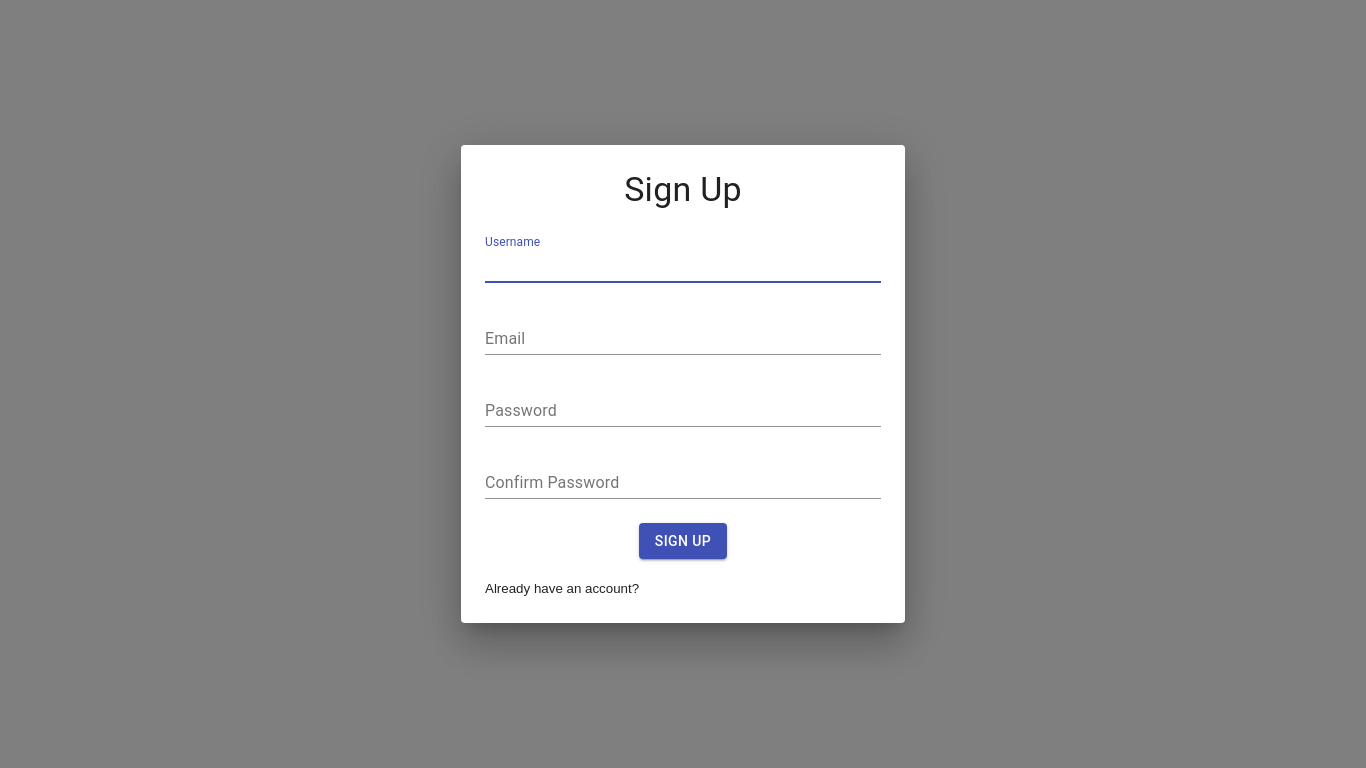
Test case: <SignUpDialog /> › Validation › should give an error on submit if username is empty
The image size is (1366, 768).
Type "123@gmail.com" into the field labelled "Email" at (683, 339), box x1=485 y1=323 x2=881 y2=355
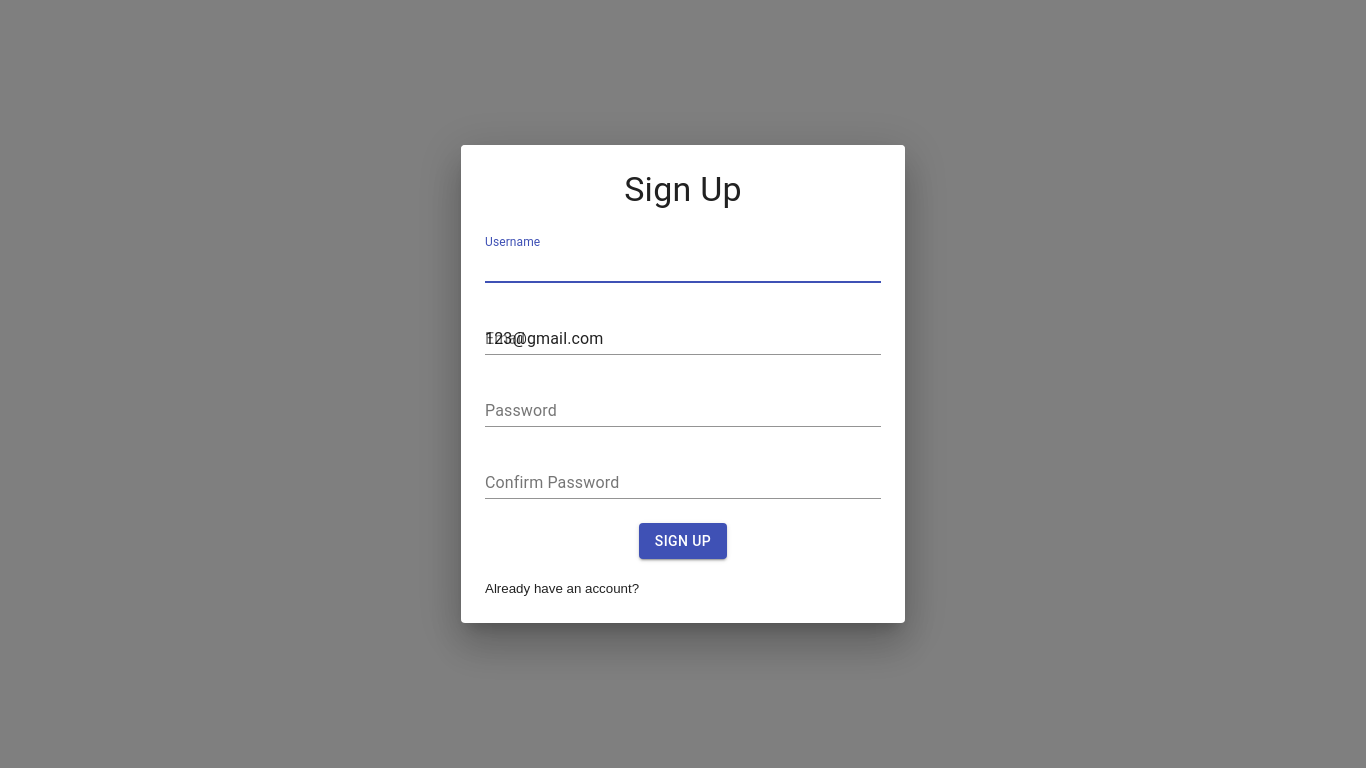
Type "123123" into the password field labelled "Password" at (683, 411), box x1=485 y1=395 x2=881 y2=427
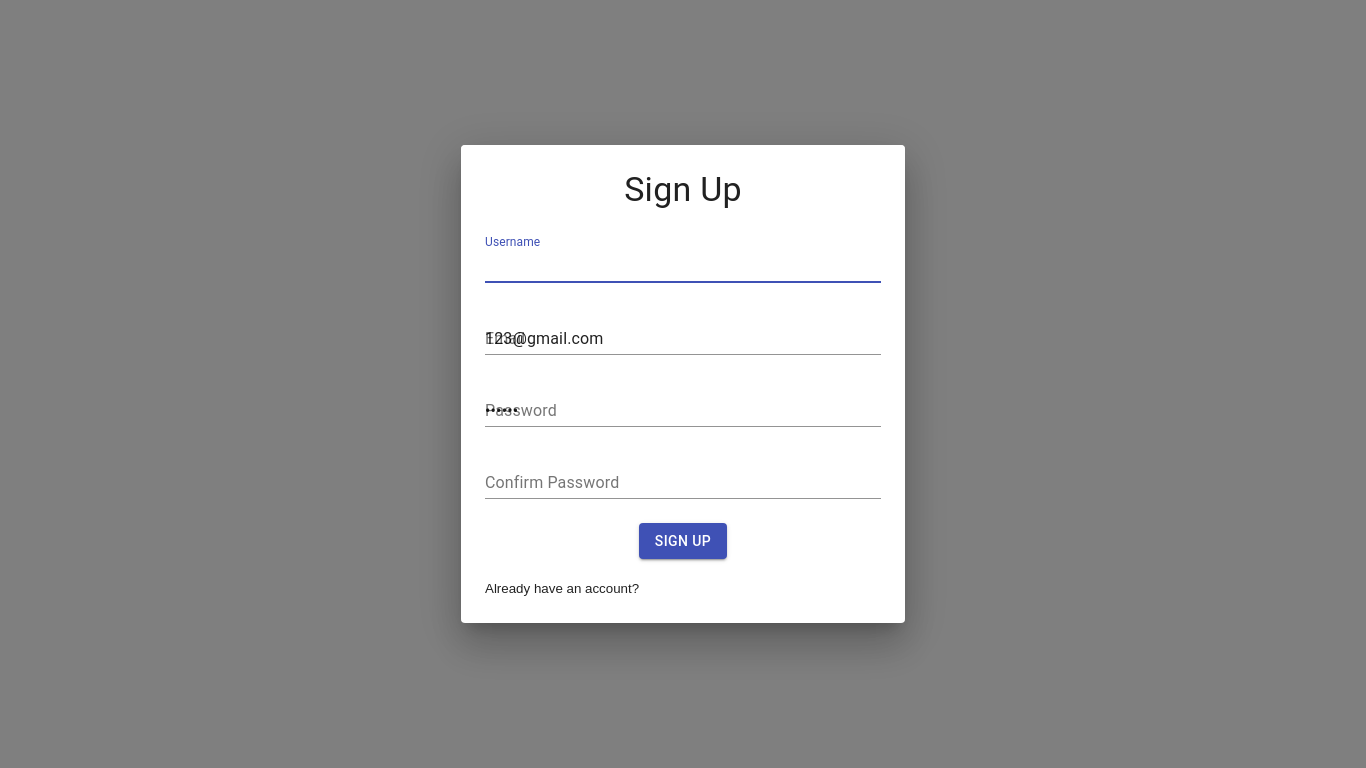
Type "123123" into the password field labelled "Confirm Password" at (683, 483), box x1=485 y1=467 x2=881 y2=499
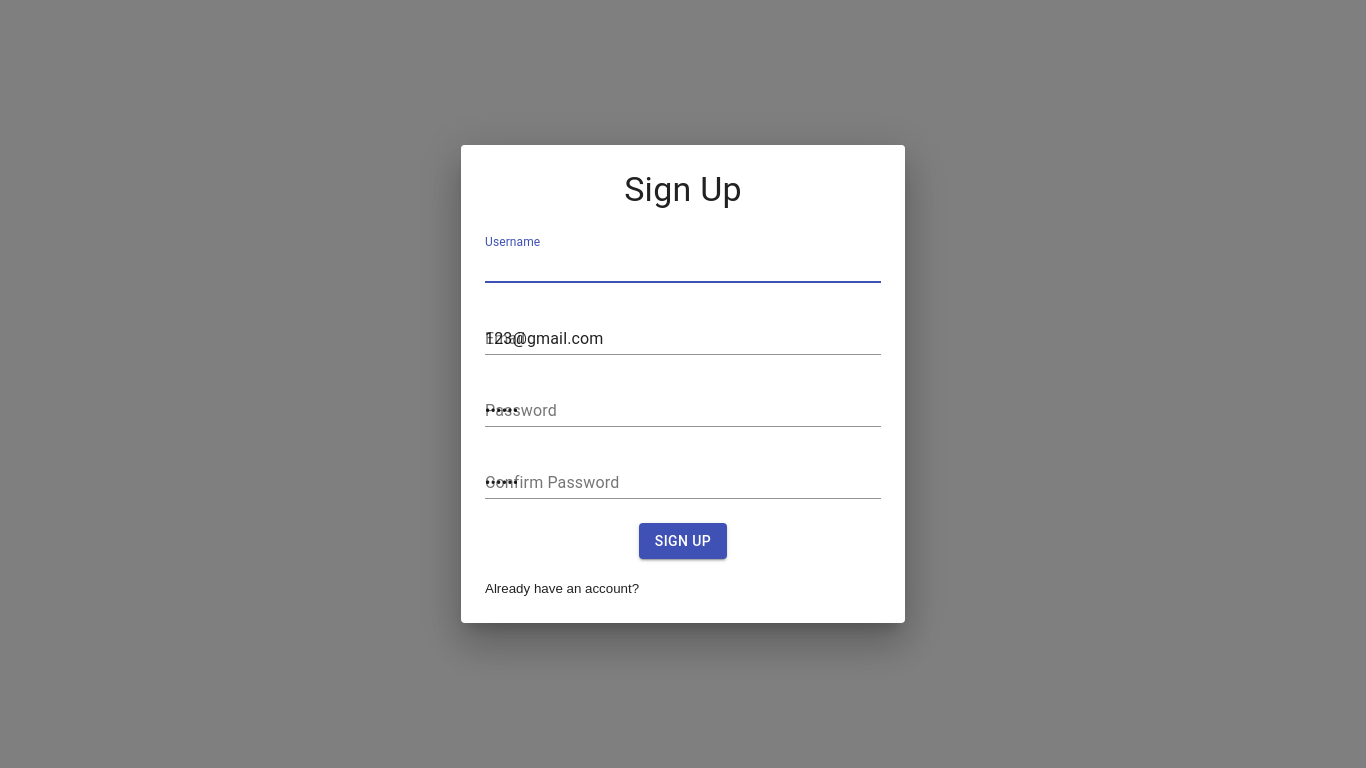
Submit the form, box x1=485 y1=223 x2=881 y2=571
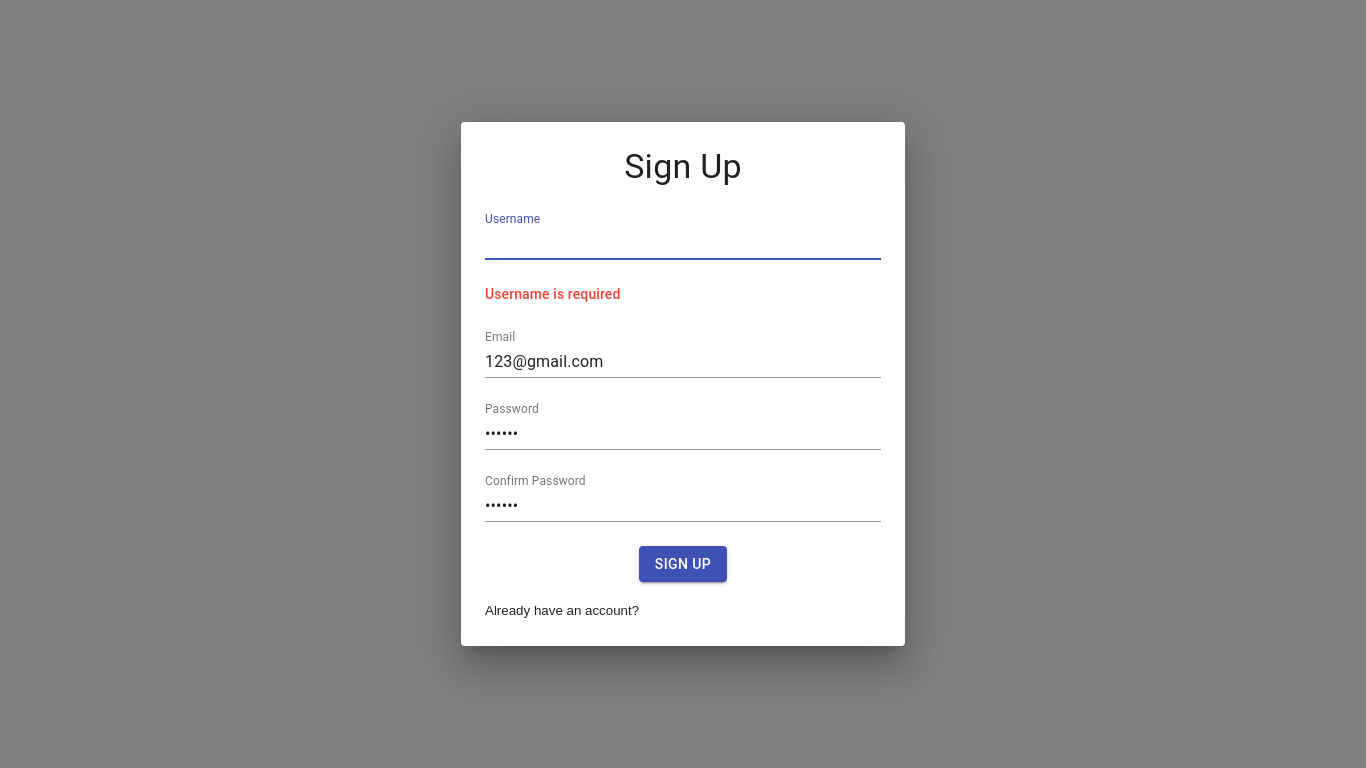
Expected: the text "Username is required" is shown, x1=485 y1=286 x2=620 y2=302
